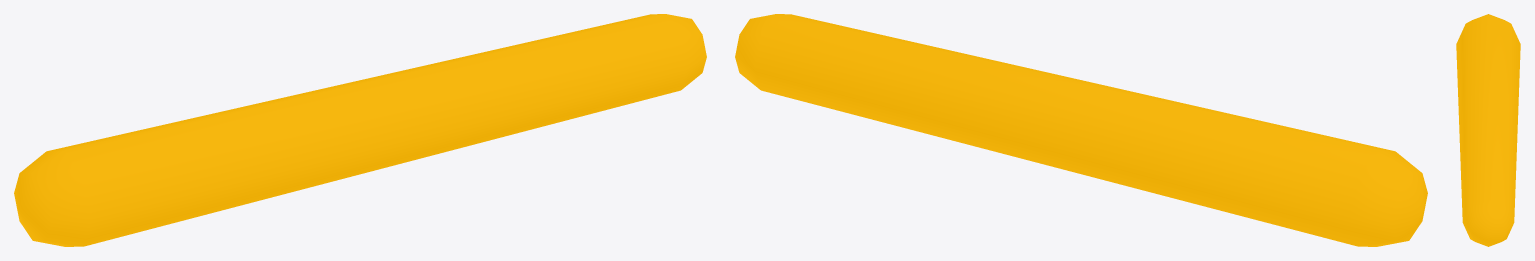
The model's file is Mdl.Laser.Short.fbx.
3 renders of one model, left to right at view 1: azimuth 30°, elevation 25°; view 2: azimuth 150°, elevation 25°; view 3: azimuth 270°, elevation 25°, orthographic. The views are drawn at different scales.
Visible parts, largest first — view 1: Mesh.Laser.Short; view 2: Mesh.Laser.Short; view 3: Mesh.Laser.Short.
Boxes of the visible parts, <box> form: Mesh.Laser.Short: <box>14,14,706,246</box>; Mesh.Laser.Short: <box>735,14,1427,246</box>; Mesh.Laser.Short: <box>1456,14,1520,246</box>.
Bounding box in the file's own units: 0.3951 × 0.053 × 0.053.
